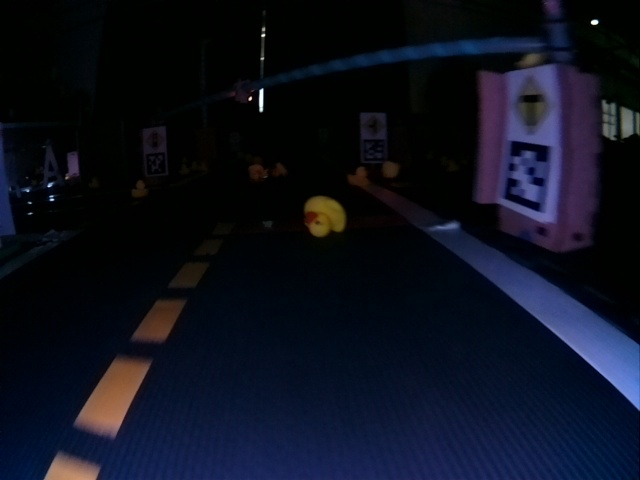Duckie: (304, 196, 342, 235), (348, 167, 367, 185), (382, 161, 399, 178), (132, 180, 147, 198), (250, 164, 263, 179), (272, 164, 286, 177)
Intersection sign: (508, 72, 558, 137), (361, 114, 385, 135)
QR code: (503, 142, 556, 212), (362, 138, 384, 162), (144, 152, 165, 174)
Signal sign: (145, 129, 165, 150)
